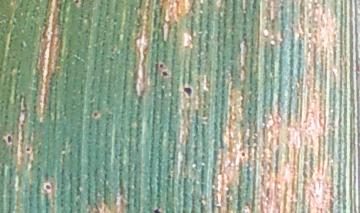tarspot: (42, 181, 54, 193), (183, 85, 194, 98), (4, 133, 14, 146), (23, 143, 32, 155), (160, 70, 171, 79), (152, 206, 164, 213), (157, 60, 165, 70), (92, 111, 100, 119)
